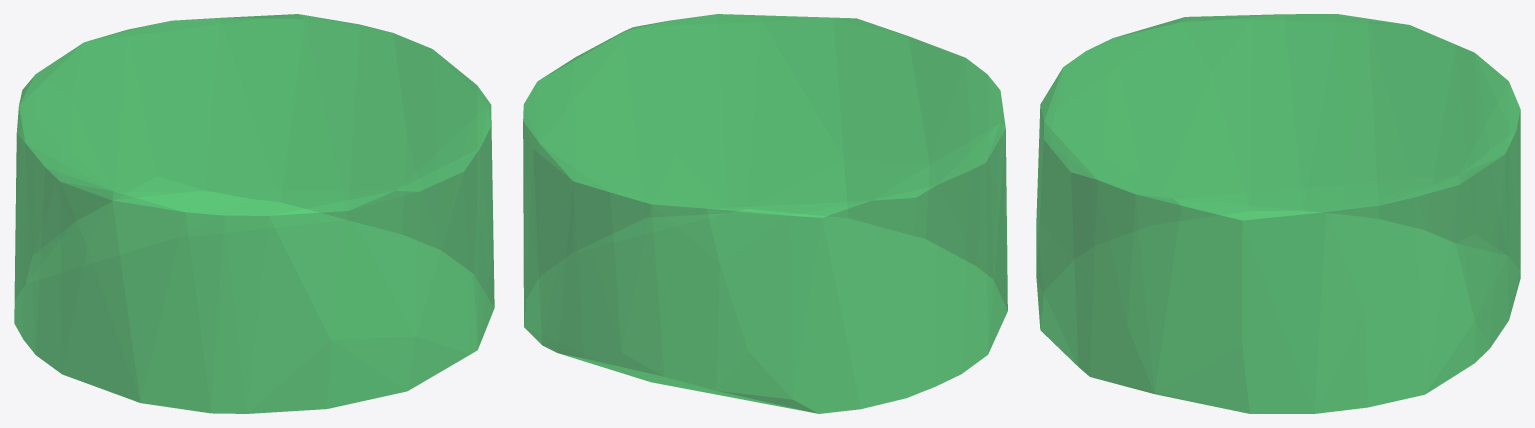
3 views of the same model, side by side, from view 1: azimuth 30°, elevation 25°; view 2: azimuth 150°, elevation 25°; view 3: azimuth 270°, elevation 25° (orthographic).
Parts seen in each view (by area): view 1: Shape_IndexedFaceSet.001_Shape_IndexedFaceSet.3589; view 2: Shape_IndexedFaceSet.001_Shape_IndexedFaceSet.3589; view 3: Shape_IndexedFaceSet.001_Shape_IndexedFaceSet.3589.
Boxes of the visible parts, bbox=[...] form: Shape_IndexedFaceSet.001_Shape_IndexedFaceSet.3589: bbox=[14, 14, 494, 413]; Shape_IndexedFaceSet.001_Shape_IndexedFaceSet.3589: bbox=[523, 14, 1007, 413]; Shape_IndexedFaceSet.001_Shape_IndexedFaceSet.3589: bbox=[1036, 14, 1520, 413].
Size of the model in its own units: 0.2395 by 0.1121 by 0.2414.
